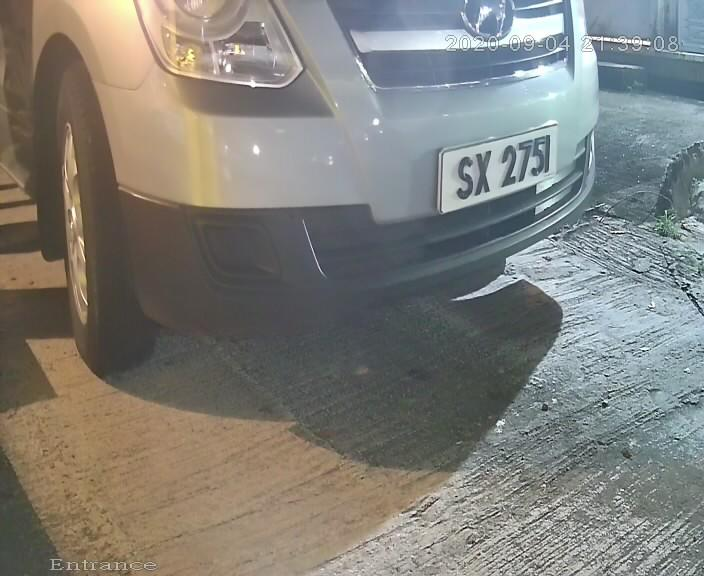License Plate: (425, 116, 566, 222)
